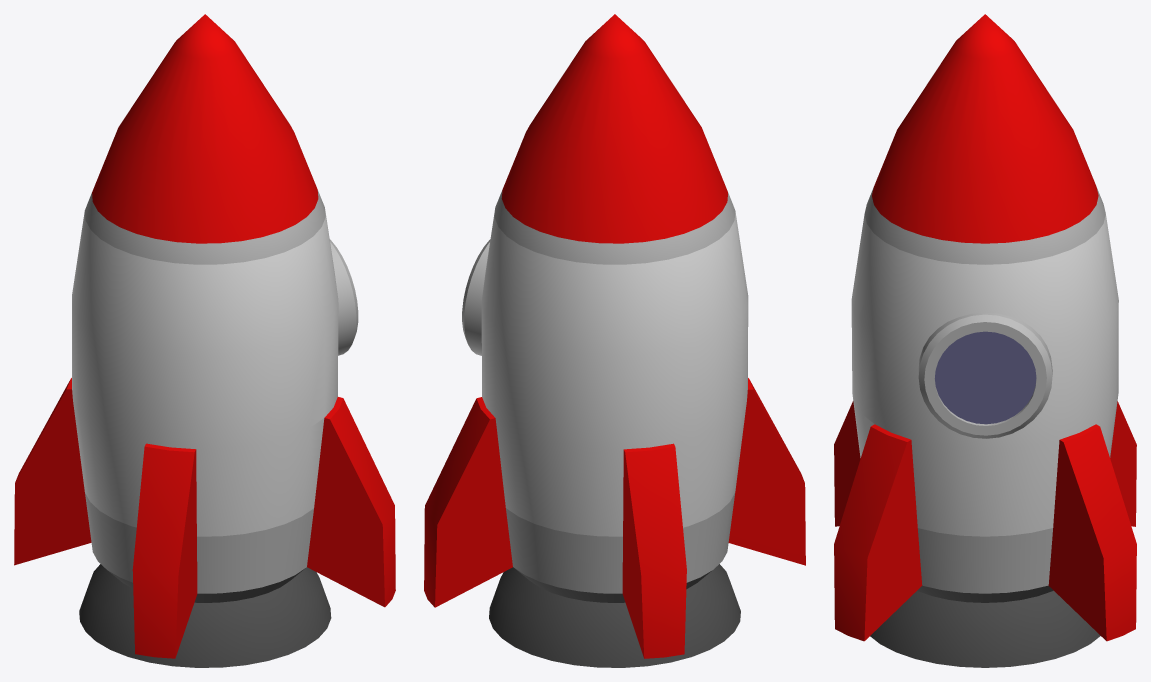
Rendered from Rocket.glb.
3 views of the same model, side by side, from view 1: azimuth 30°, elevation 25°; view 2: azimuth 150°, elevation 25°; view 3: azimuth 270°, elevation 25° (orthographic).
Parts seen in each view (by area): view 1: Cylinder, Cylinder.003, Cylinder.001; view 2: Cylinder, Cylinder.003, Cylinder.001; view 3: Cylinder, Cylinder.003, Cylinder.001.
Boxes of the visible parts, box(x1,y1,x2,y2) form: Cylinder: box(72, 14, 338, 667); Cylinder.003: box(14, 378, 395, 658); Cylinder.001: box(329, 239, 358, 355); Cylinder: box(481, 14, 748, 667); Cylinder.003: box(424, 378, 805, 658); Cylinder.001: box(462, 239, 490, 355); Cylinder: box(851, 14, 1118, 667); Cylinder.003: box(834, 401, 1136, 641); Cylinder.001: box(918, 313, 1052, 438).
Size of the model in its own units: 2.67 by 5.85 by 2.67.
